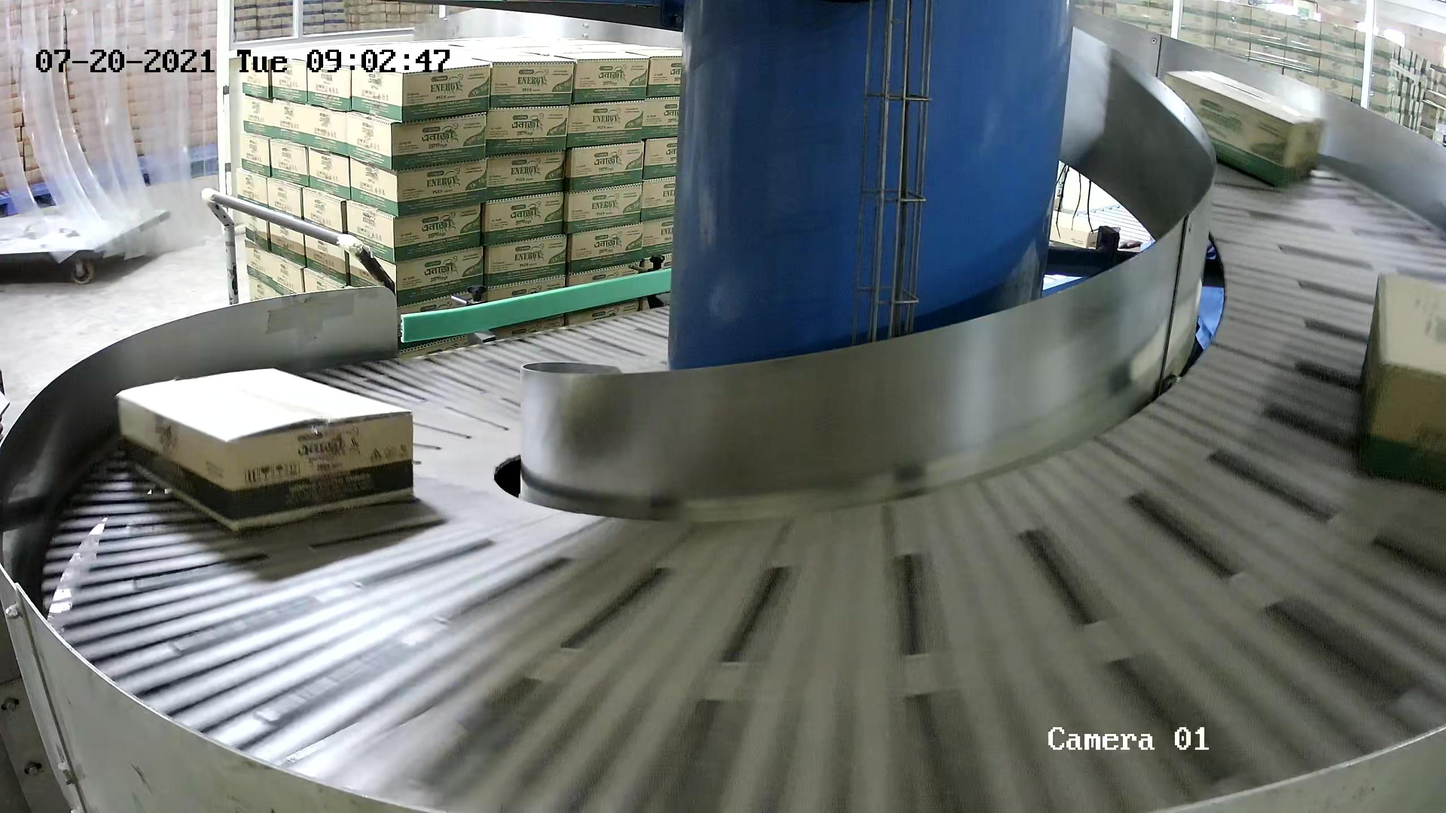Box: (114, 367, 414, 533), (1163, 69, 1327, 188), (1359, 269, 1446, 485)
